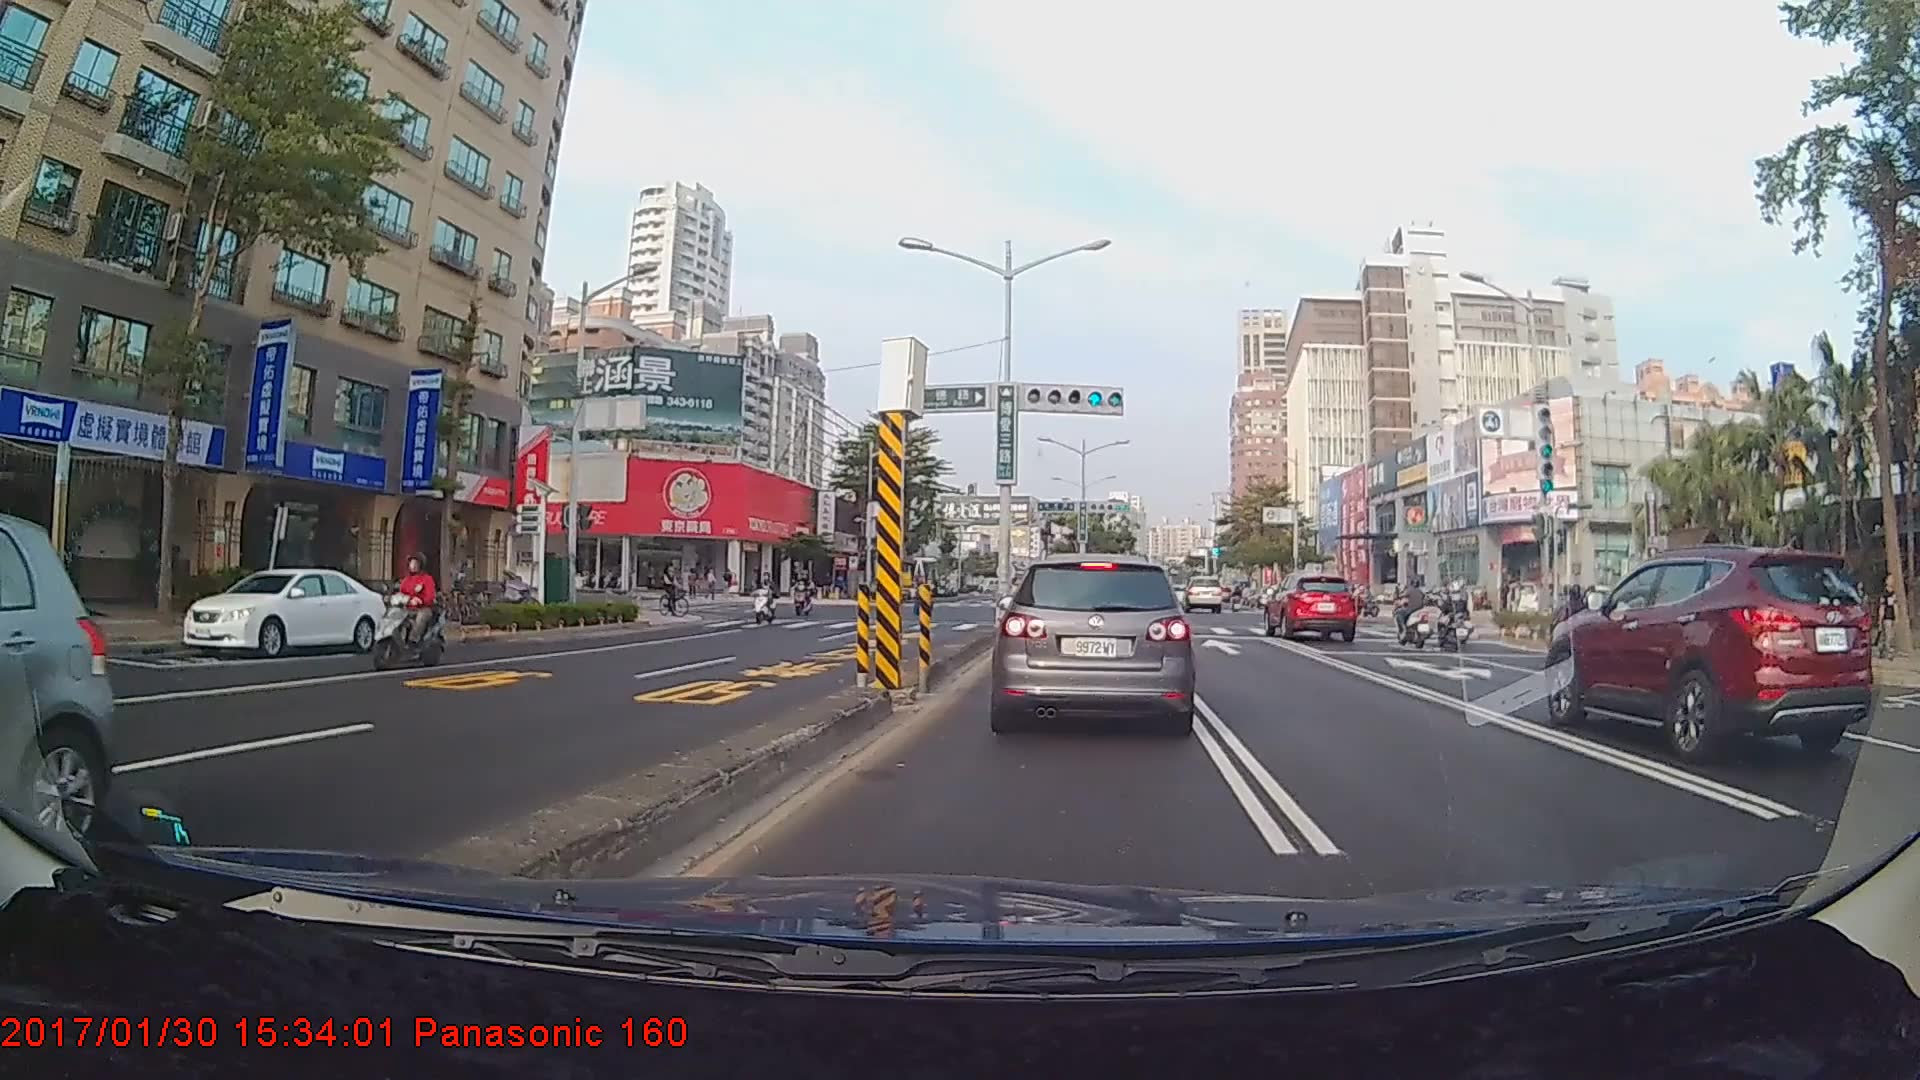pedestrian: (1878, 571, 1903, 663), (1847, 581, 1871, 650)
rider: (368, 552, 449, 676), (1387, 581, 1442, 655), (1429, 583, 1478, 652), (652, 563, 693, 624), (750, 573, 787, 631)
vehicle: (1542, 546, 1875, 762), (0, 497, 115, 885), (995, 554, 1192, 730), (181, 565, 388, 657), (1265, 569, 1358, 642), (1182, 574, 1224, 614)
